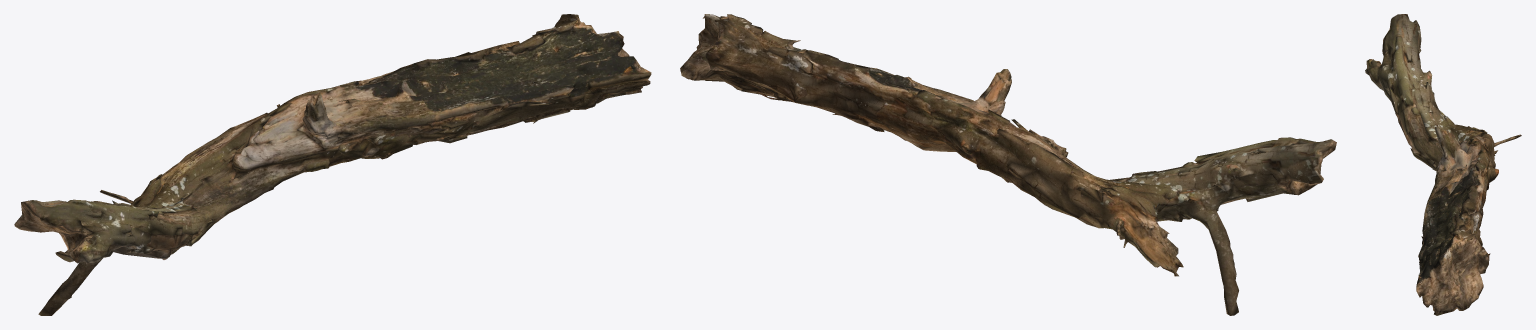
Rendered from dead_tree_trunk_02.glb.
3 views of the same model, side by side, from view 1: azimuth 30°, elevation 25°; view 2: azimuth 150°, elevation 25°; view 3: azimuth 270°, elevation 25° (orthographic). The views are drawn at different scales.
Visible parts, largest first — view 1: dead_tree_trunk_02; view 2: dead_tree_trunk_02; view 3: dead_tree_trunk_02.
Part boxes in pixels (x1,y1,x2,y2): dead_tree_trunk_02: (14,14,651,315); dead_tree_trunk_02: (680,14,1336,315); dead_tree_trunk_02: (1365,14,1521,315).
Bounding box in the file's own units: 4.05 × 1.05 × 1.05.
1 material, 1 textured.
